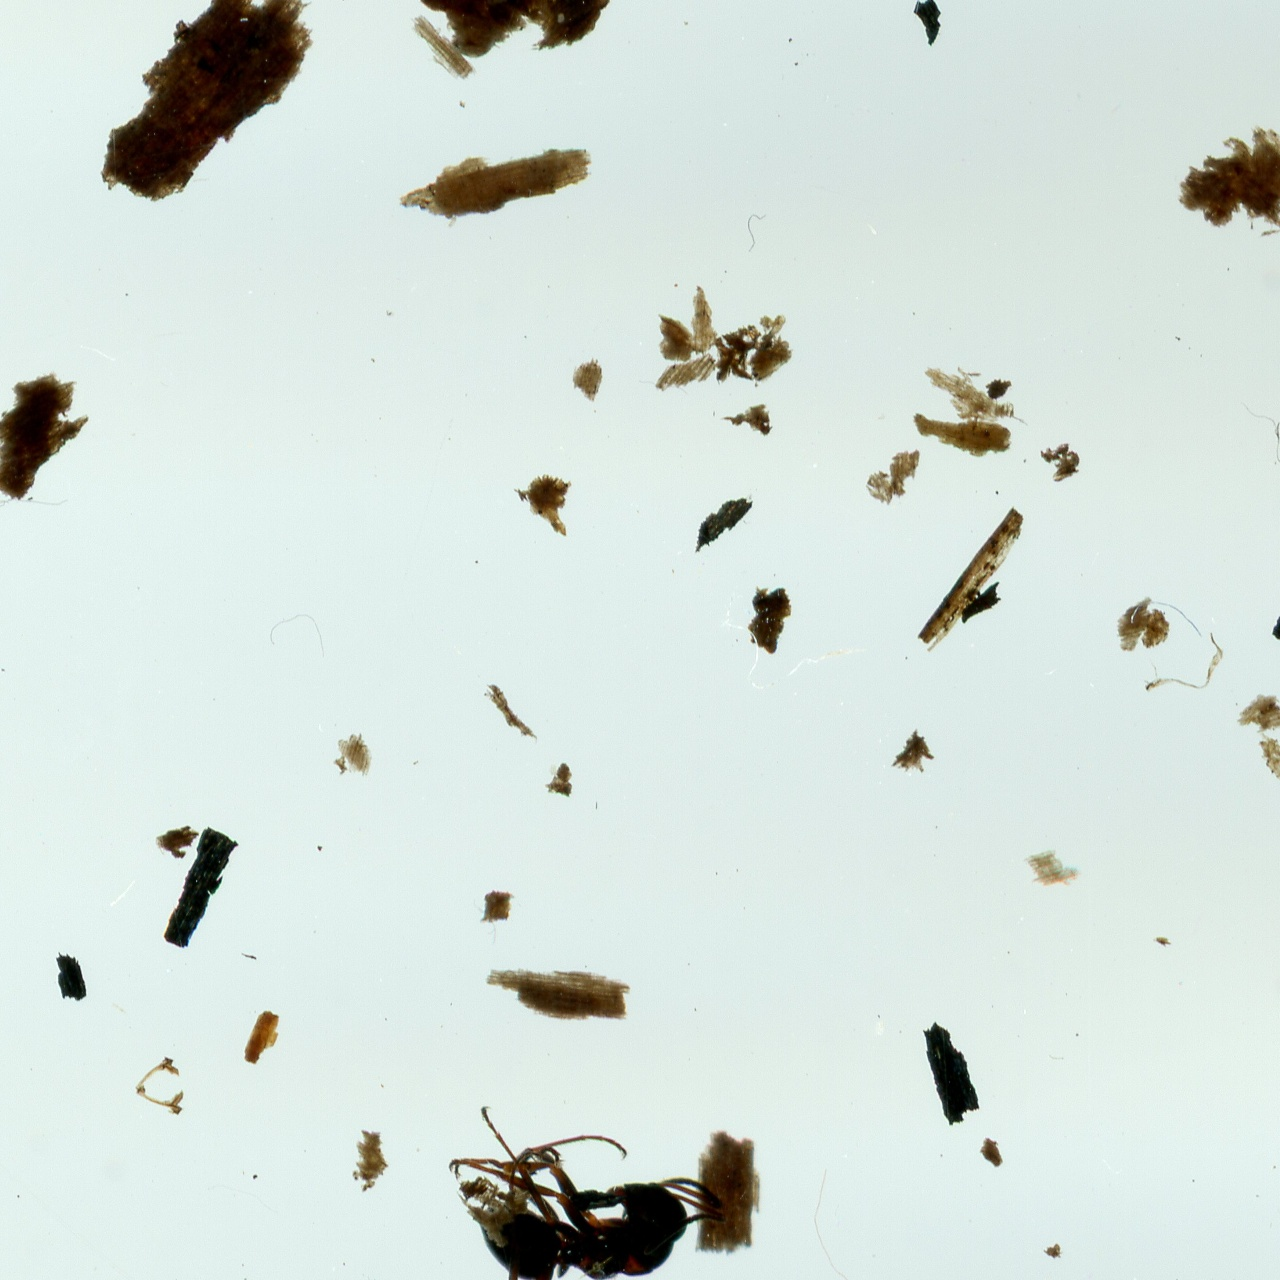arthropod: (442, 1097, 740, 1280)
